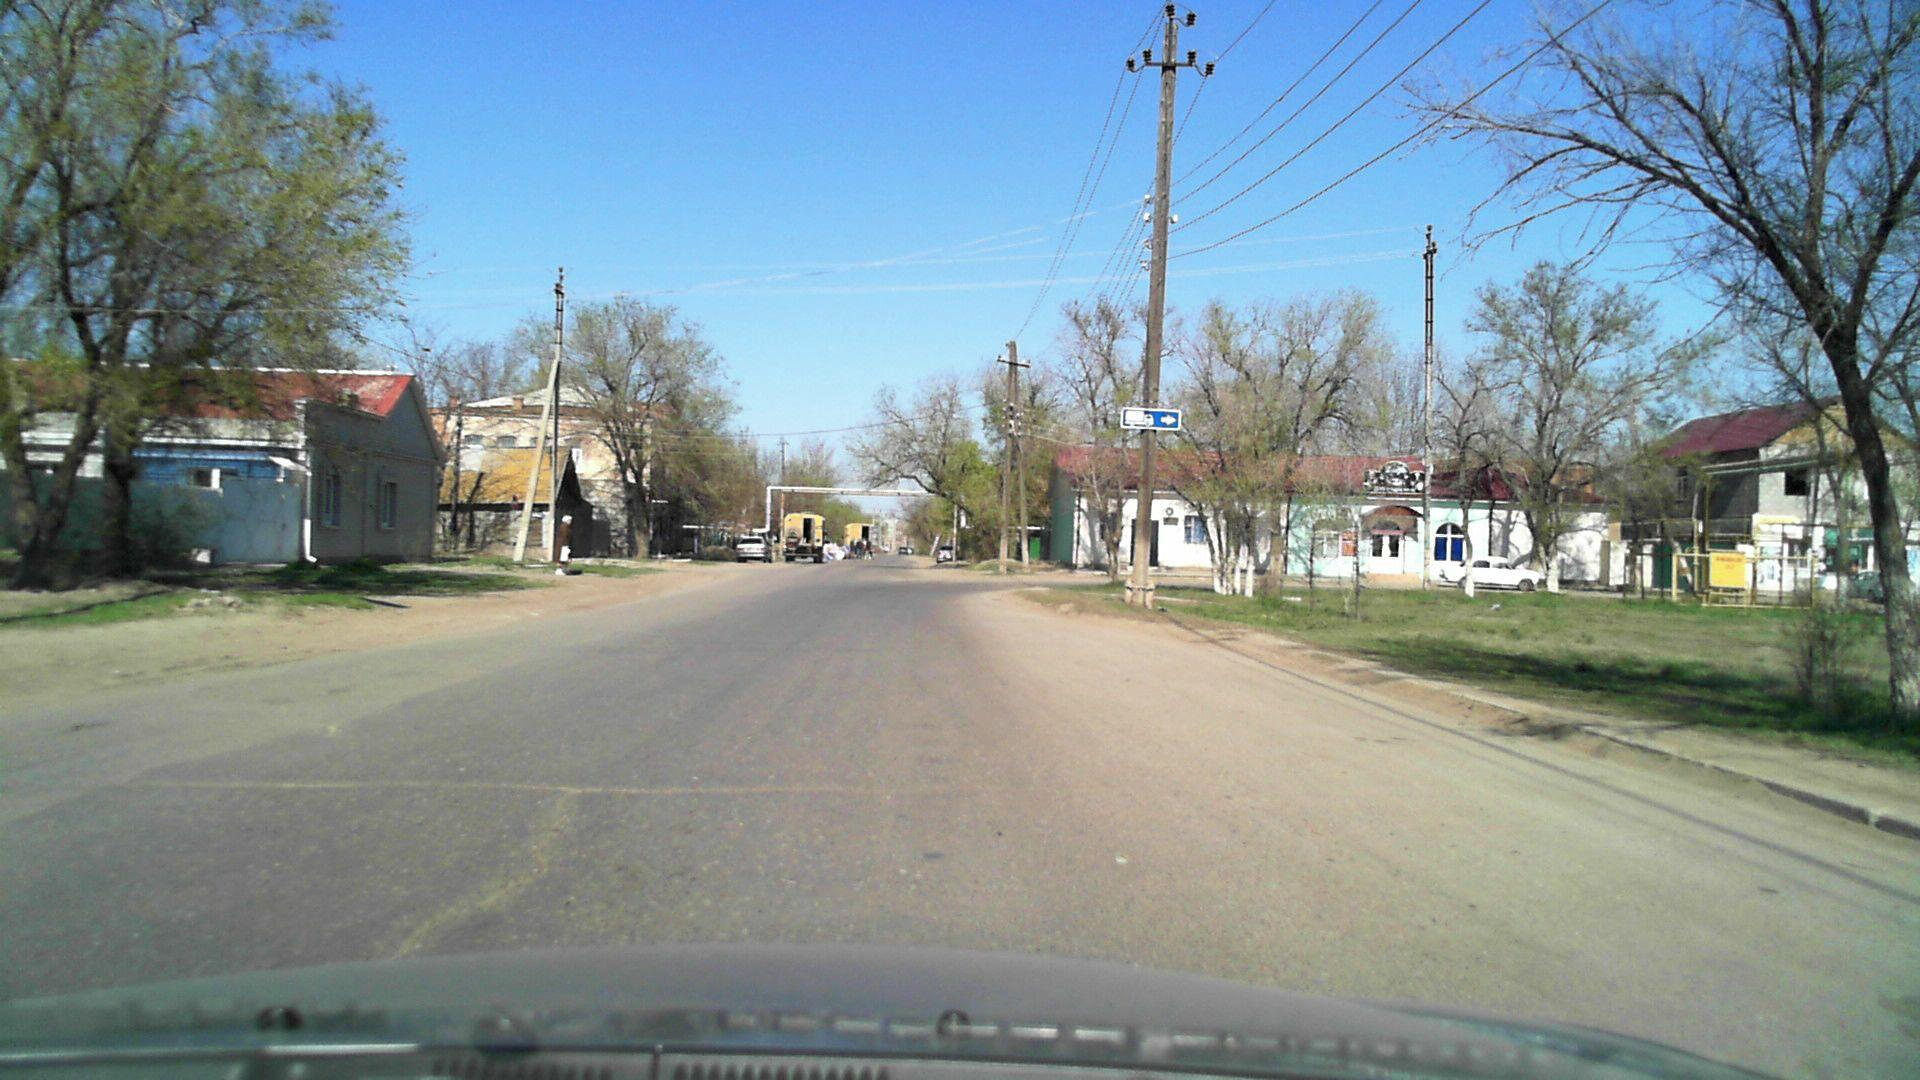6_15_2: (1118, 406, 1182, 431)
